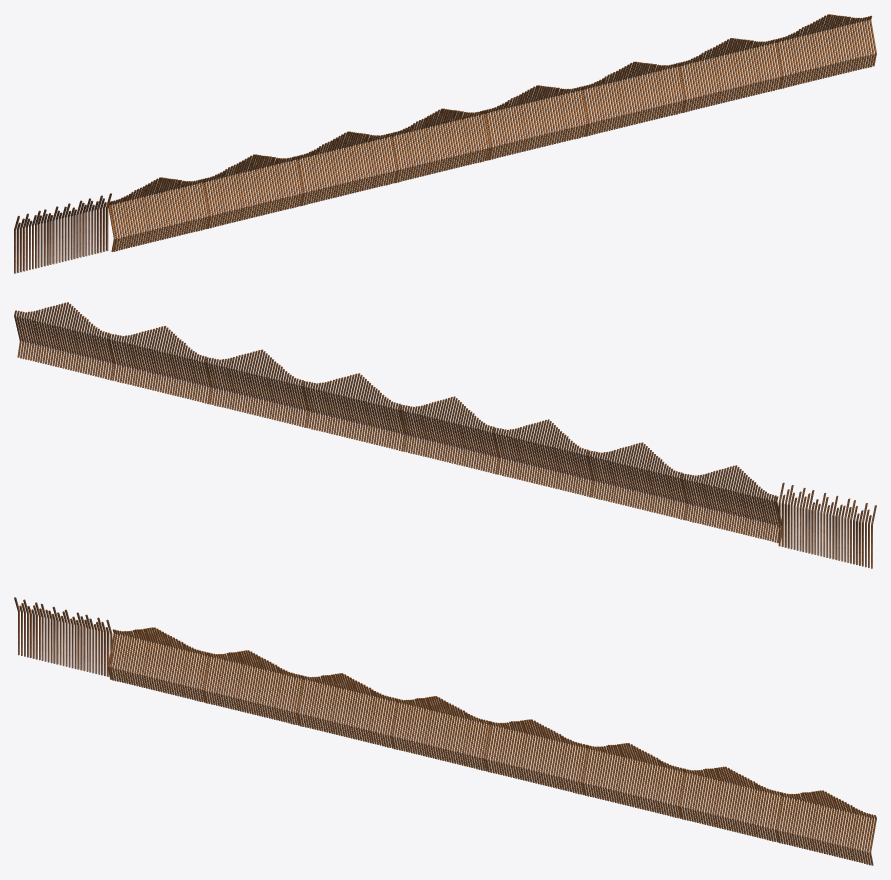
The model's file is WallDecorLeft.obj.
3 renders of one model, top to bottom at view 1: azimuth 30°, elevation 25°; view 2: azimuth 150°, elevation 25°; view 3: azimuth 330°, elevation 25°, orthographic.
Parts seen in each view (by area): view 1: WallDecoration2.003, WallDecoration2.001, WallDecoration1.001; view 2: WallDecoration2.003, WallDecoration2.001, WallDecoration1.001; view 3: WallDecoration2.003, WallDecoration2.001, WallDecoration1.001.
Boxes of the visible parts, <box> form: WallDecoration2.003: <box>483,14,876,160</box>; WallDecoration2.001: <box>108,108,488,251</box>; WallDecoration1.001: <box>14,193,111,273</box>; WallDecoration2.003: <box>14,302,407,451</box>; WallDecoration2.001: <box>402,396,781,543</box>; WallDecoration1.001: <box>778,482,876,568</box>; WallDecoration2.003: <box>483,719,876,865</box>; WallDecoration2.001: <box>108,627,488,770</box>; WallDecoration1.001: <box>14,597,112,676</box>.
Size of the model in its own units: 129 by 9.38 by 1.71.
